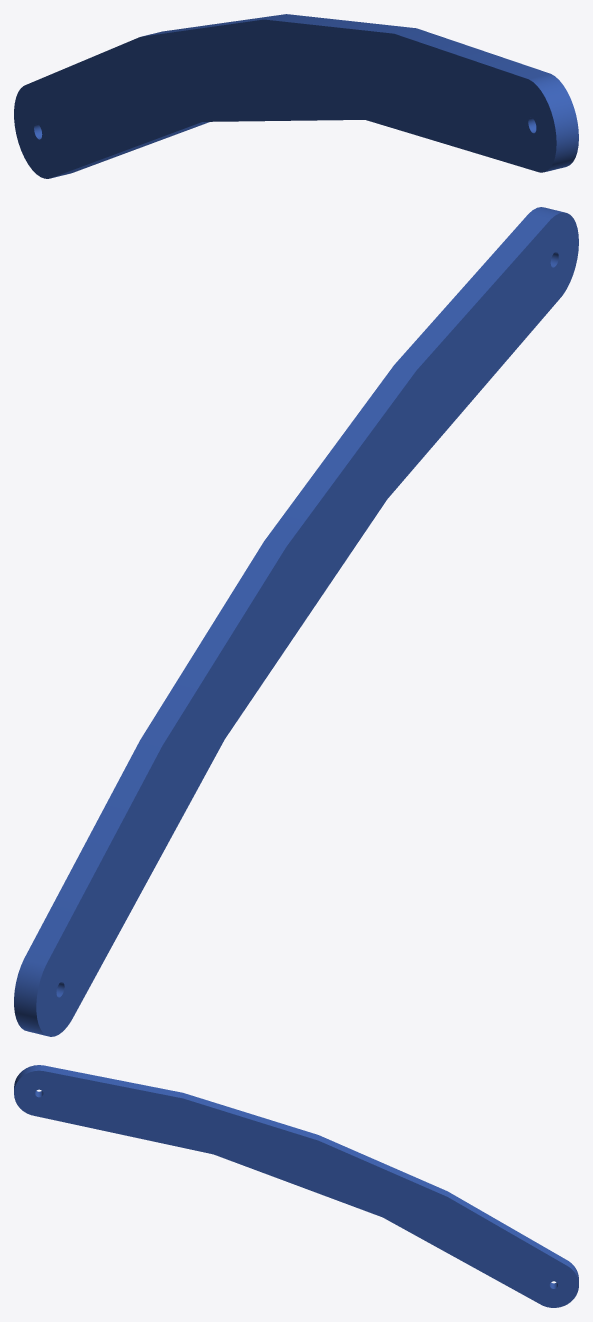
The model's file is FourBarLowerLink.glb.
3 renders of one model, top to bottom at view 1: azimuth 30°, elevation 25°; view 2: azimuth 150°, elevation 25°; view 3: azimuth 270°, elevation 25°, orthographic. The views are drawn at different scales.
Visible parts, largest first — view 1: Part 14; view 2: Part 14; view 3: Part 14.
Boxes of the visible parts, bbox=[...] form: Part 14: bbox=[14, 14, 578, 178]; Part 14: bbox=[14, 207, 578, 1036]; Part 14: bbox=[14, 1065, 578, 1307].
Bounding box in the file's own units: 0.008 × 0.1558 × 0.3361.
